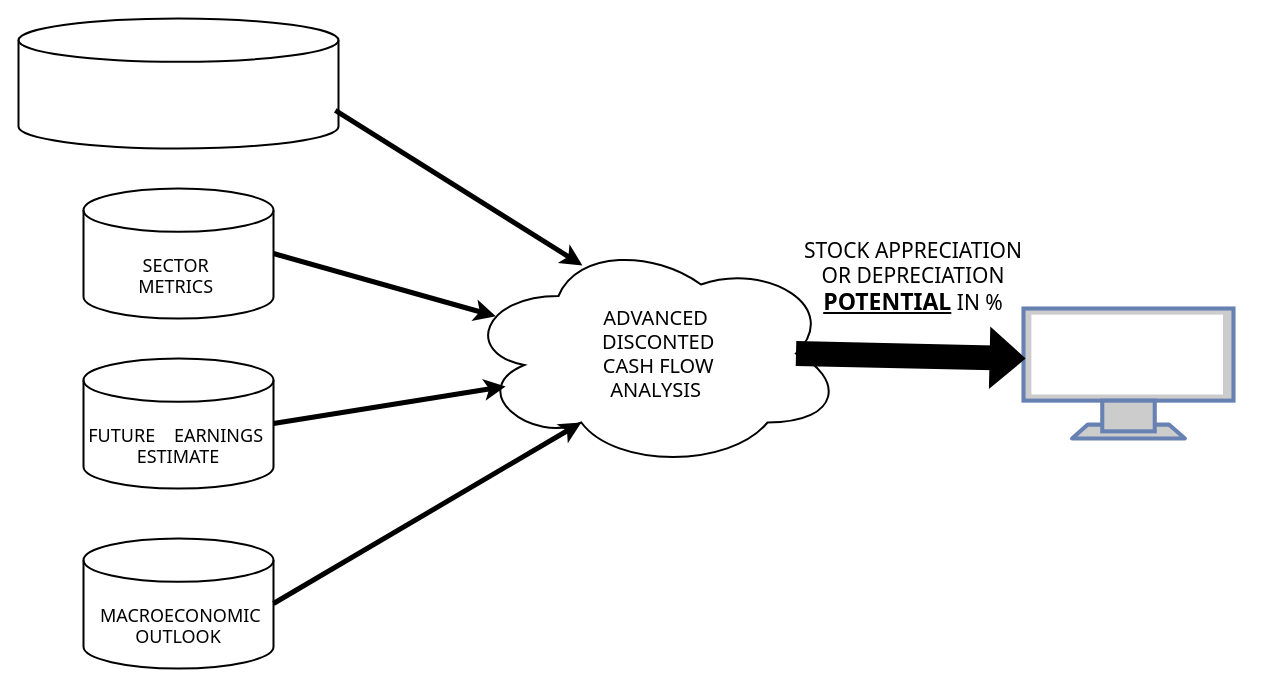
Some shapes in this 1270 by 686 pixel diagram are drawn without their labels. Here are the shapes that lost their labels. From the top down, the centre of each, then its label:
At (178,83): "HISTORICAL FINANCIAL REPORTS".
At (1128,373): "stockcomparator.com".
